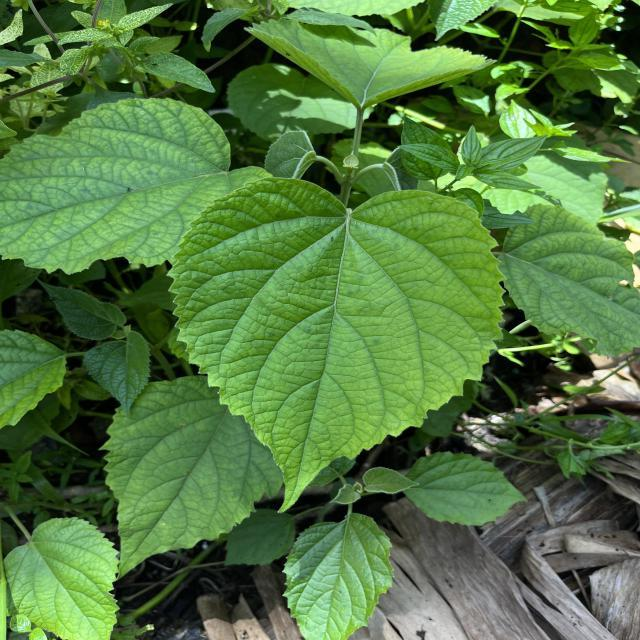Clerodendrum infortunatum: (163, 175, 508, 517), (0, 97, 270, 277), (104, 374, 284, 584), (495, 202, 640, 361)
